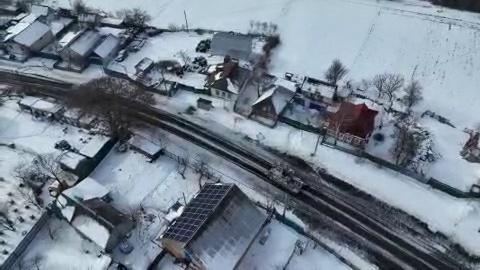car: (192, 39, 211, 55), (54, 138, 71, 152), (194, 54, 210, 66)
sau: (266, 160, 320, 195)
